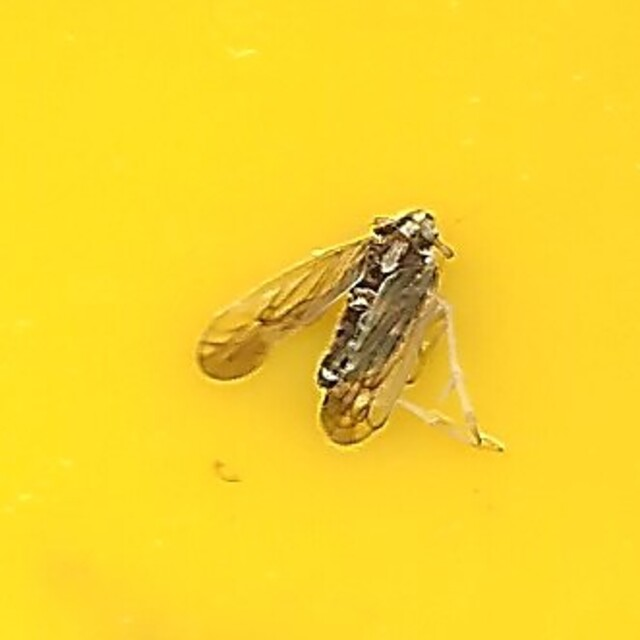Hemiptera: (193, 190, 447, 450)
